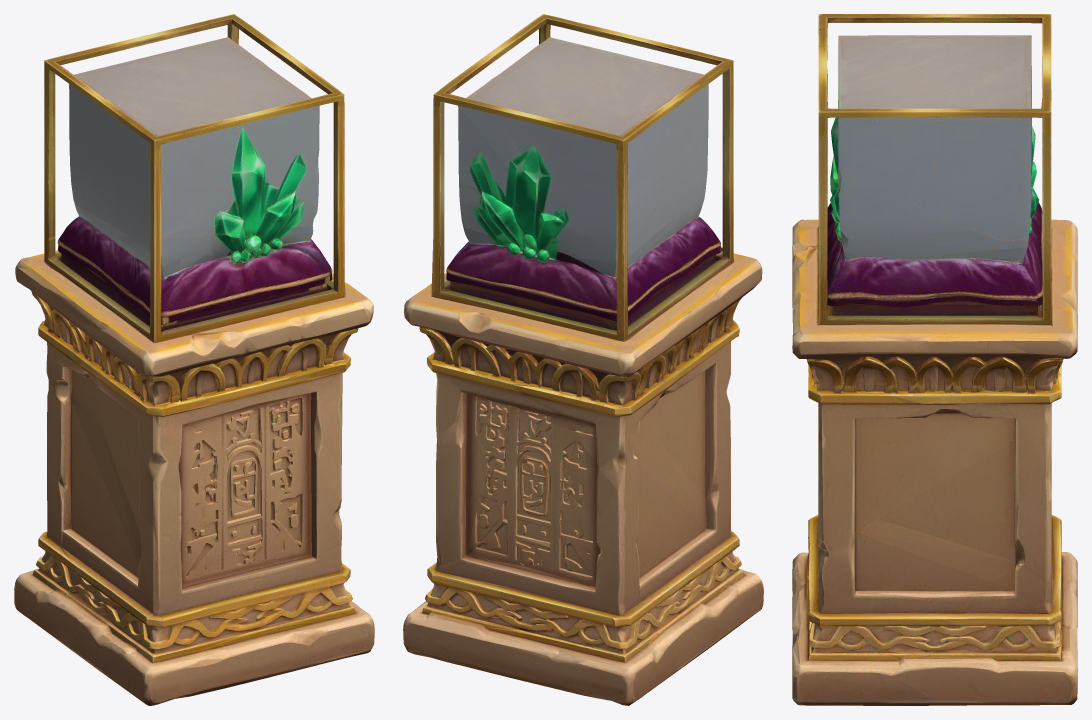
The model's file is et_gemcase.glb.
The picture shows the model from 3 angles, left to right: view 1: azimuth 30°, elevation 25°; view 2: azimuth 150°, elevation 25°; view 3: azimuth 270°, elevation 25°; orthographic projection. The views are drawn at different scales.
Bounding box in the file's own units: 0.8248 × 1.9 × 0.8382.
1 material, 1 textured.
